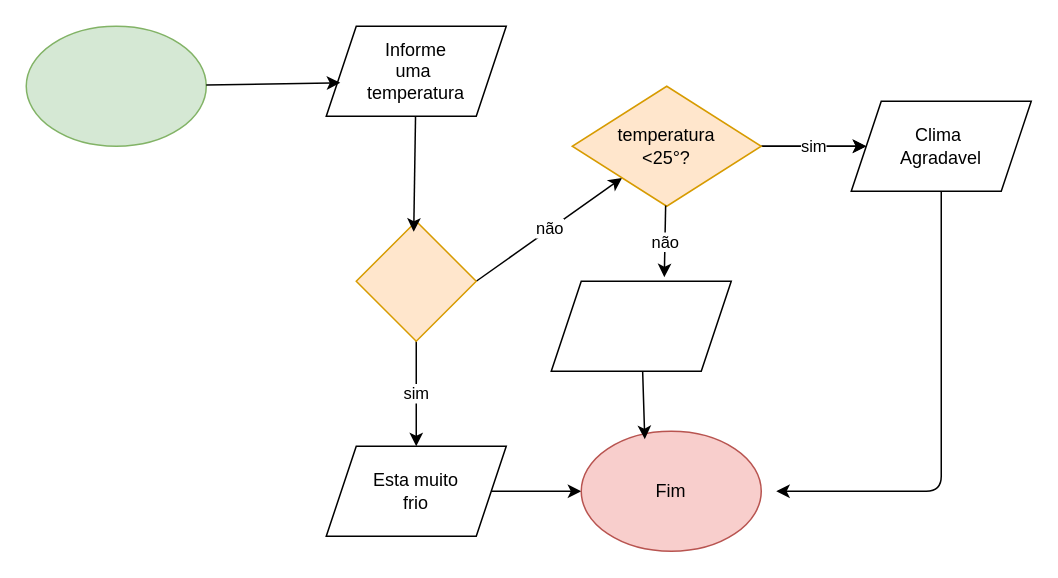
This 1058x578 diagram has some shape labels left out. The shapes that lost their labels are listed below. From the top down, each one's centre as x and y in pixels, then its label:
(x=115, y=85): Início
(x=415, y=280): Temperatura <10°?
(x=640, y=325): Está muito quente
